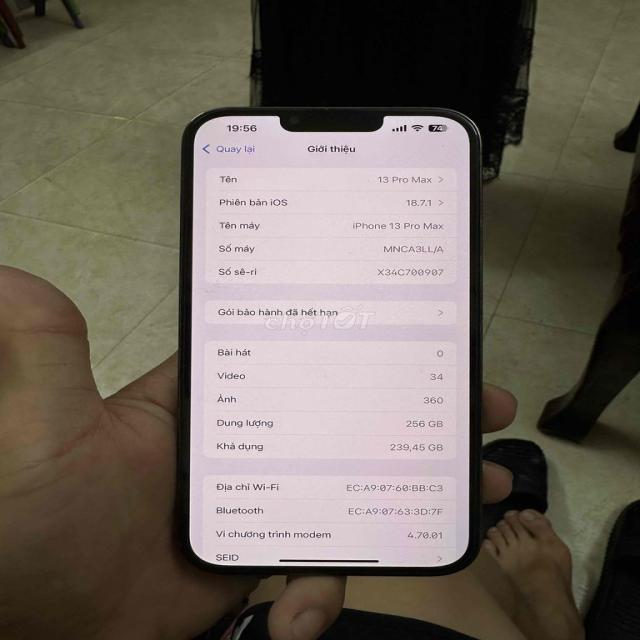gen_12_13: (170, 103, 497, 596)
